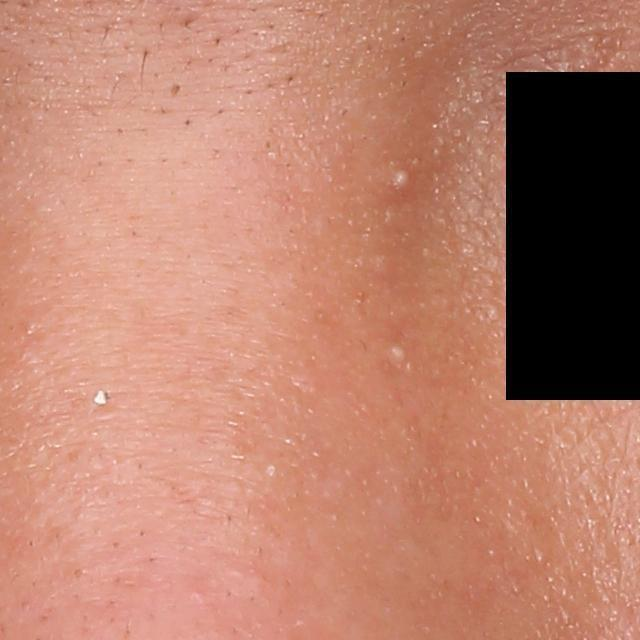pustule: (389, 167, 411, 192)
